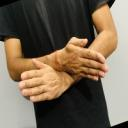hand: (60, 37, 108, 81), (18, 59, 65, 101)
